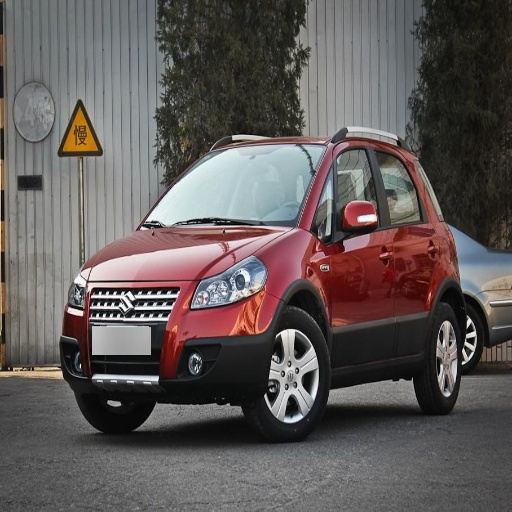front_bumper: (62, 279, 279, 398)
front_glass: (140, 145, 325, 227)
front_left_door: (313, 139, 396, 365)
trunk: (439, 239, 493, 306)
